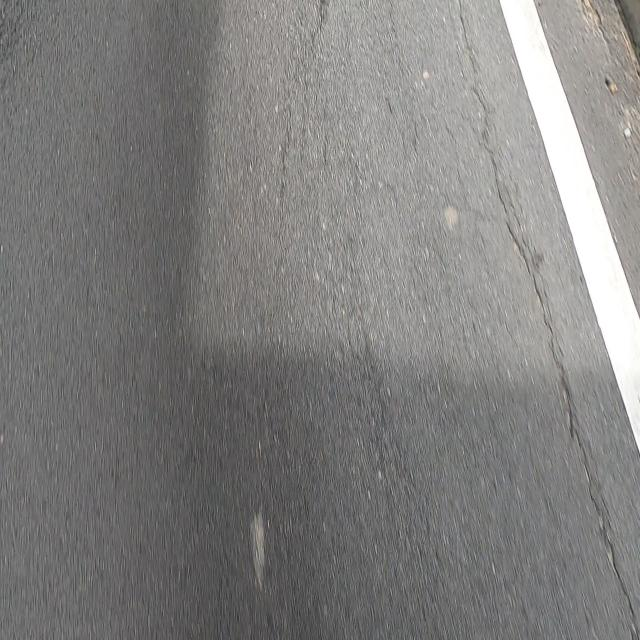Retak-Memanjang: (457, 0, 573, 446), (574, 435, 633, 621)
